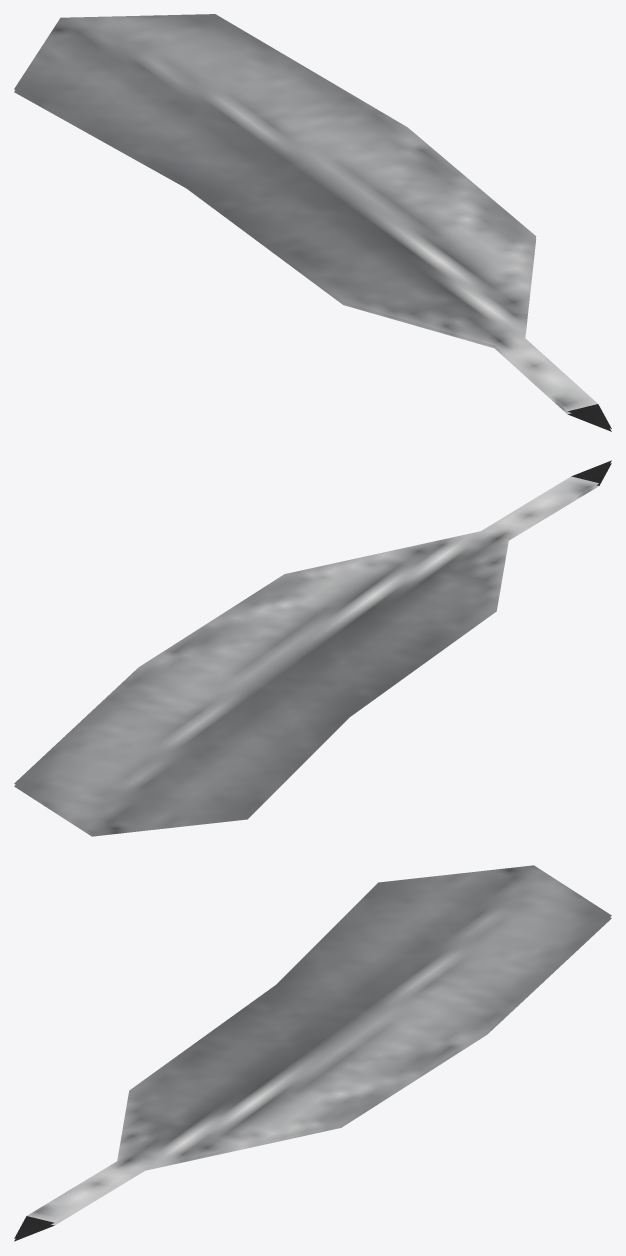
Rendered from Quill_A.fbx.
The picture shows the model from 3 angles, top to bottom: view 1: azimuth 30°, elevation 25°; view 2: azimuth 150°, elevation 25°; view 3: azimuth 330°, elevation 25°; orthographic projection. The views are drawn at different scales.
Parts seen in each view (by area): view 1: Quill_A; view 2: Quill_A; view 3: Quill_A.
Boxes of the visible parts, box(x1,y1,x2,y2) form: Quill_A: box(14, 14, 611, 431); Quill_A: box(14, 460, 611, 836); Quill_A: box(14, 865, 611, 1241).
Bounding box in the file's own units: 0.1332 × 0.00146 × 0.5035.
